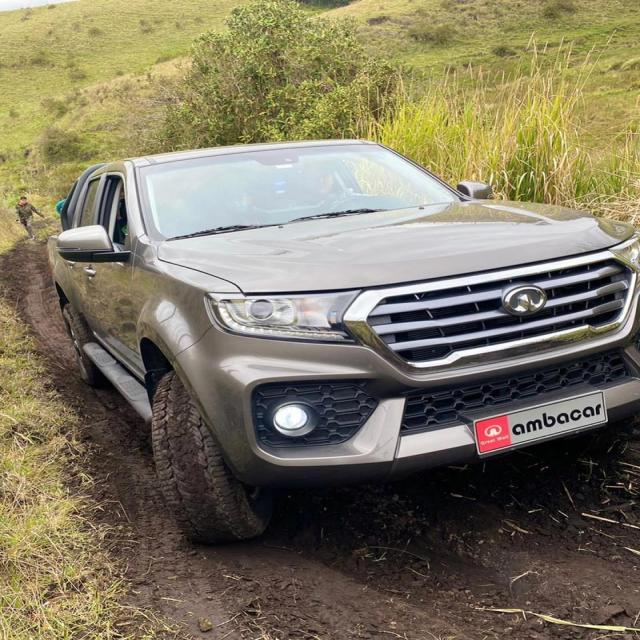CMT: (41, 151, 638, 554)
